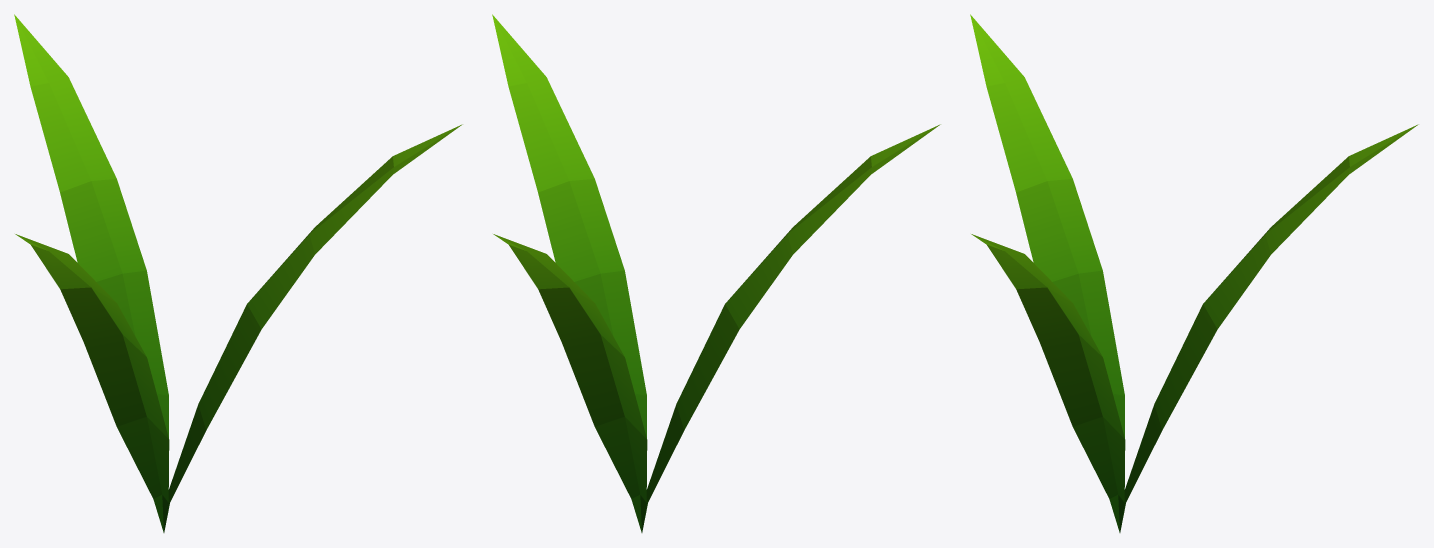
Rendered from grass_6.glb.
3 views of the same model, side by side, from view 1: azimuth 30°, elevation 25°; view 2: azimuth 150°, elevation 25°; view 3: azimuth 270°, elevation 25° (orthographic).
Visible parts, largest first — view 1: grass_6; view 2: grass_6; view 3: grass_6.
Part boxes in pixels (x1=…): grass_6: x1=14, y1=14, x2=462, y2=532; grass_6: x1=492, y1=14, x2=940, y2=532; grass_6: x1=970, y1=14, x2=1418, y2=532.
Bounding box in the file's own units: 0.5637 × 0.4914 × 0.4882.
Materials: 1 (1 with a texture image).
